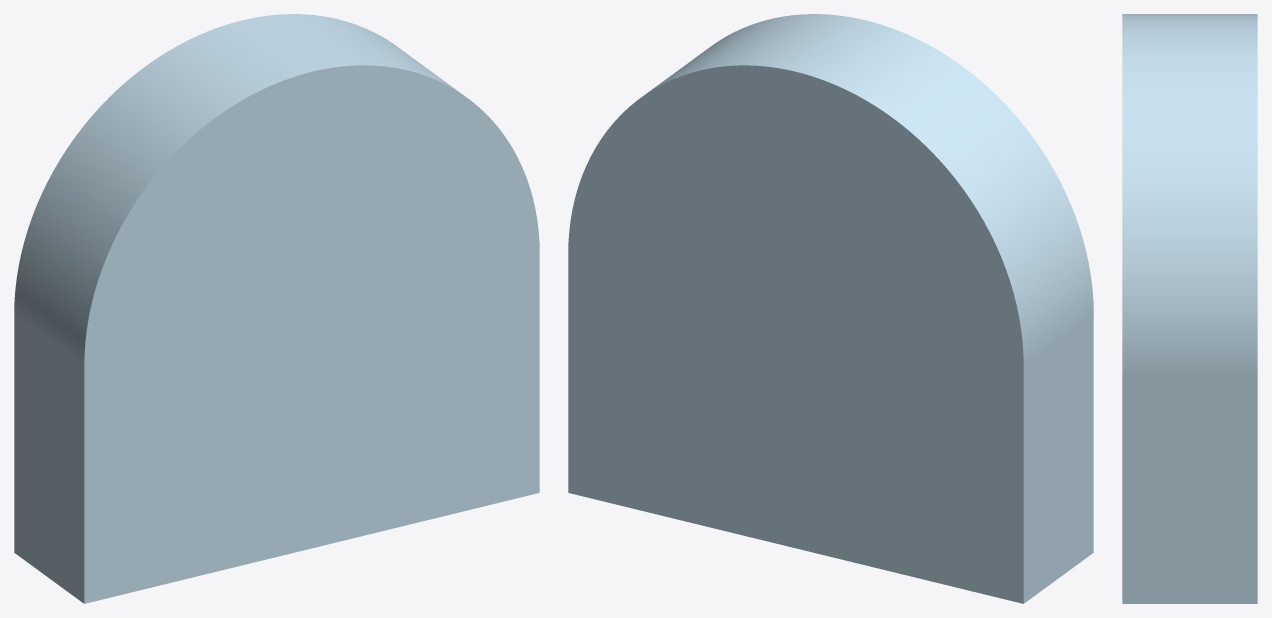
Rendered from nand.fbx.
The picture shows the model from 3 angles, left to right: view 1: azimuth 30°, elevation 25°; view 2: azimuth 150°, elevation 25°; view 3: azimuth 270°, elevation 25°; orthographic projection. The views are drawn at different scales.
Visible parts, largest first — view 1: Part 1; view 2: Part 1; view 3: Part 1.
Part boxes in pixels (x1,y1,x2,y2): Part 1: (14,14,539,603); Part 1: (568,14,1093,603); Part 1: (1122,14,1257,603).
Bounding box in the file's own units: 75 × 74.99 × 20.
